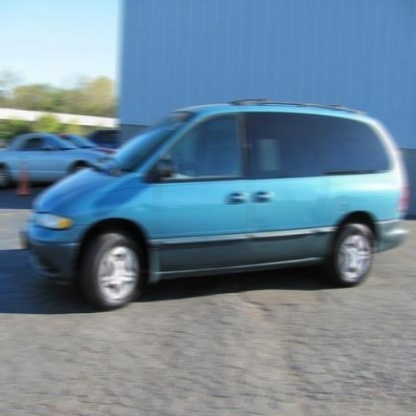Vehicle: (22, 100, 409, 312)
